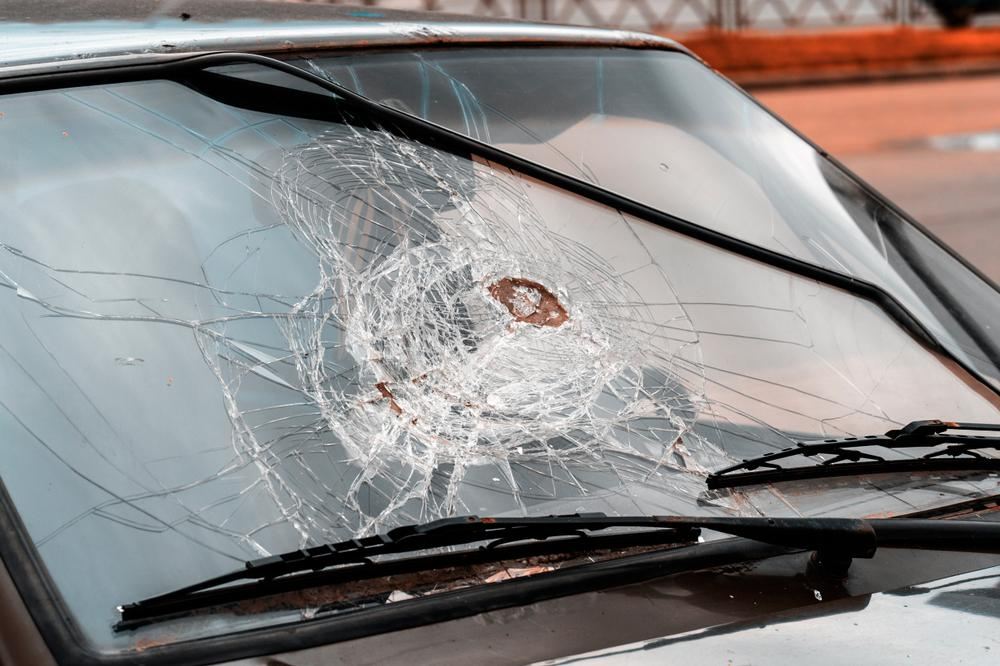glass shatter: (0, 44, 1000, 654)
